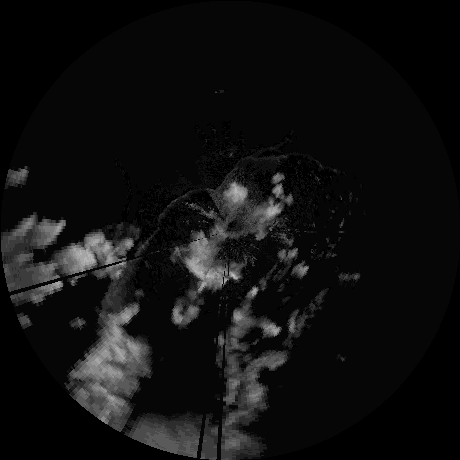frontgust: (139, 185, 216, 250), (223, 151, 287, 185)
